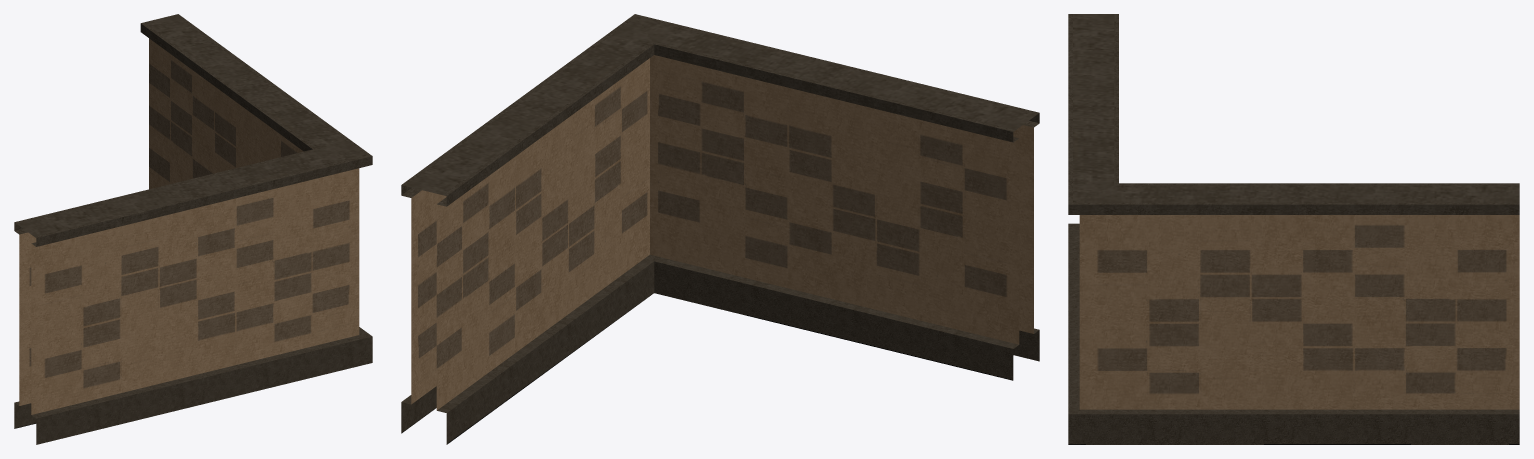
File: Wall_Half_Corner_Concave_001.fbx
3 renders of one model, left to right at view 1: azimuth 30°, elevation 25°; view 2: azimuth 150°, elevation 25°; view 3: azimuth 270°, elevation 25°, orthographic. The views are drawn at different scales.
Parts seen in each view (by area): view 1: Wall_Half_Corner_Concave_001; view 2: Wall_Half_Corner_Concave_001; view 3: Wall_Half_Corner_Concave_001.
Part boxes in pixels (x1=…): Wall_Half_Corner_Concave_001: x1=14, y1=14, x2=372, y2=444; Wall_Half_Corner_Concave_001: x1=401, y1=14, x2=1039, y2=444; Wall_Half_Corner_Concave_001: x1=1068, y1=14, x2=1519, y2=444.
Size of the model in its own units: 400 by 235 by 400.
